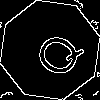Q: (25, 25, 87, 83)
